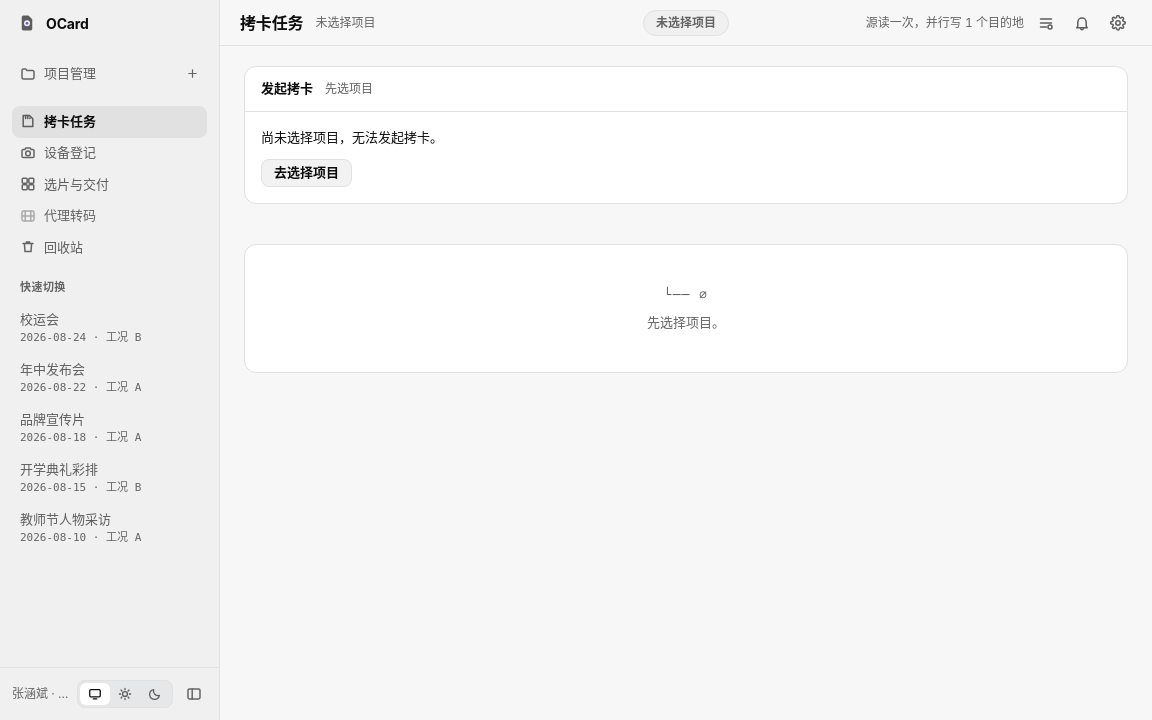
Test: 工作站设置 › 齿轮入口在顶栏，点开出现设置对话框
Click the button with test id "settings-open". click: click(1118, 22)
box: [1104, 8, 1132, 36]
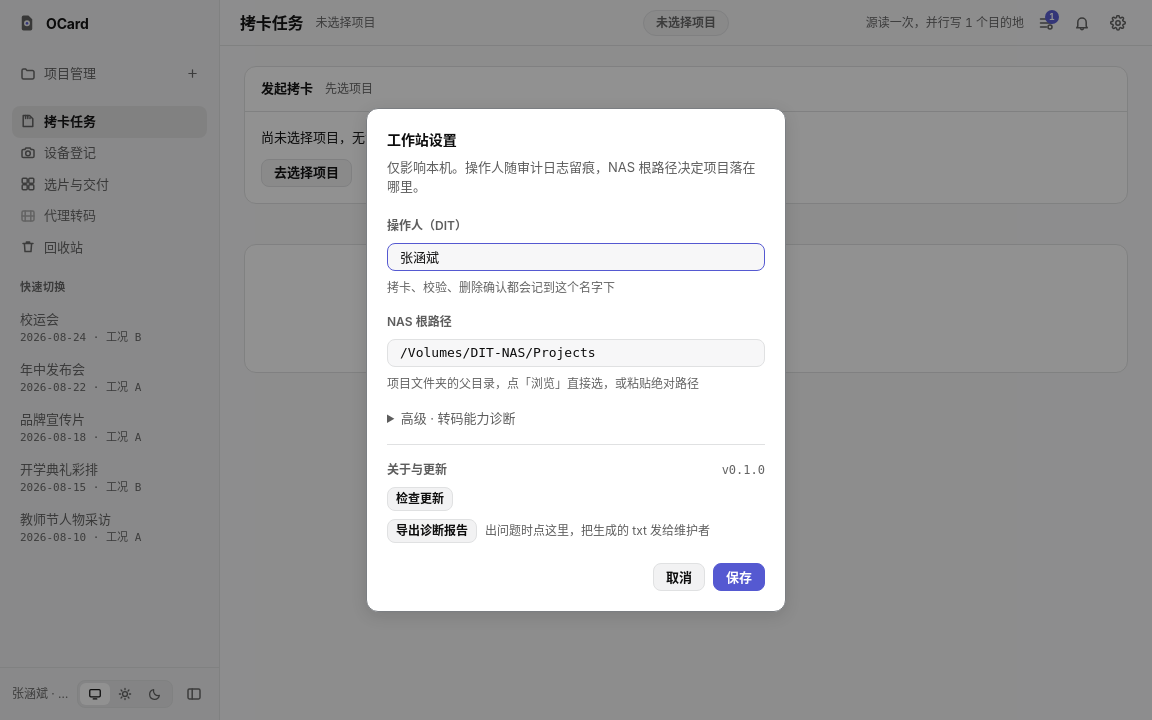
Expected: the dialog "工作站设置" is shown, [366, 108, 786, 612]
